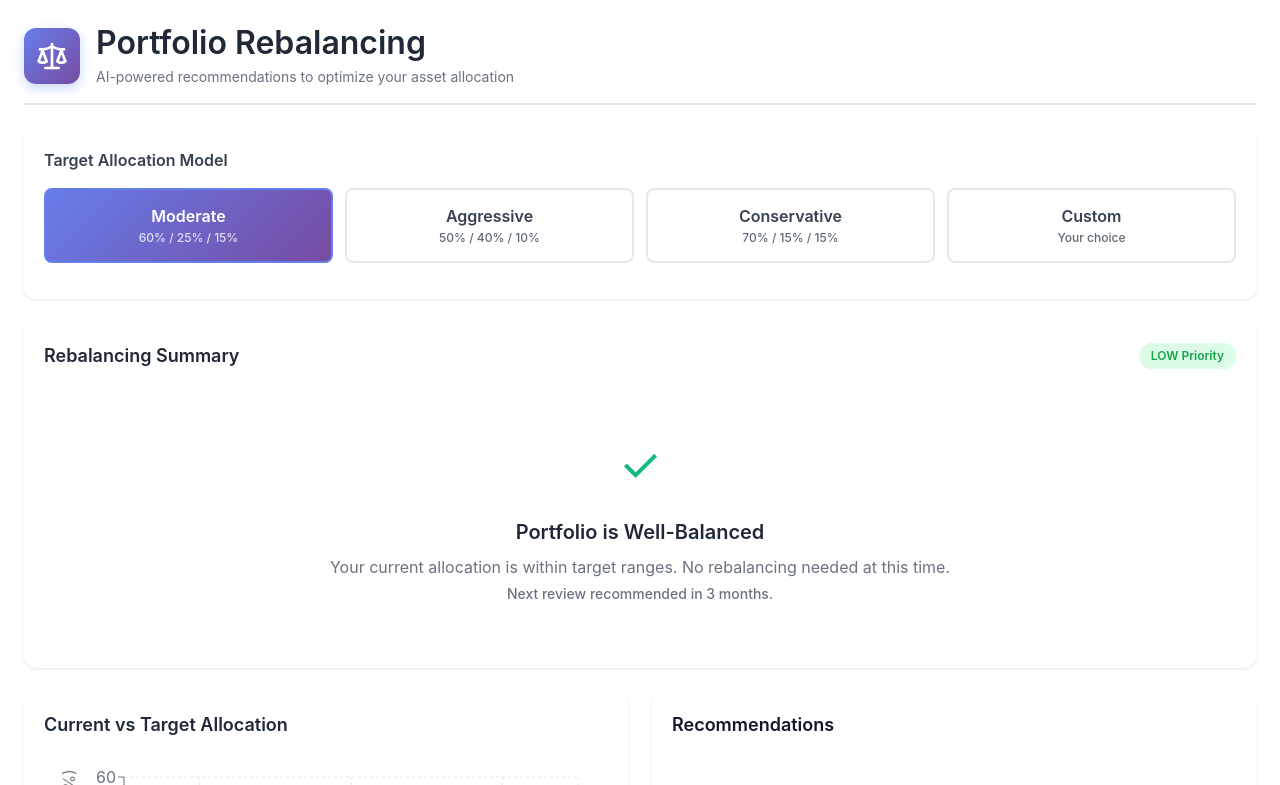
it: RebalancingPage › should show validation error when custom allocation does not sum to 100%
Expected: the text "Custom" is shown, [1062, 206, 1122, 226]
Click the button "Custom Your choice": {"x": 1092, "y": 225} [947, 188, 1236, 263]
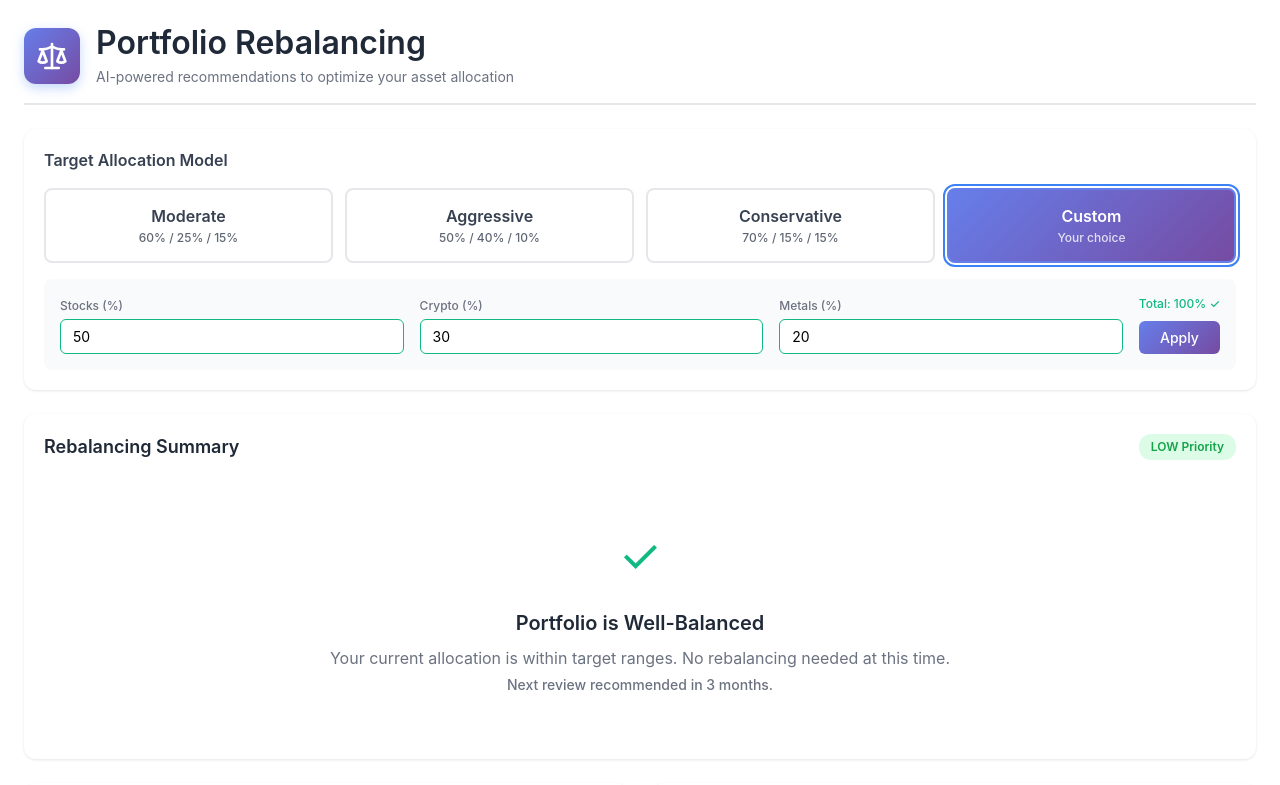
Clear the number field labelled "Stocks (%)": {"x": 232, "y": 336} [60, 319, 404, 354]
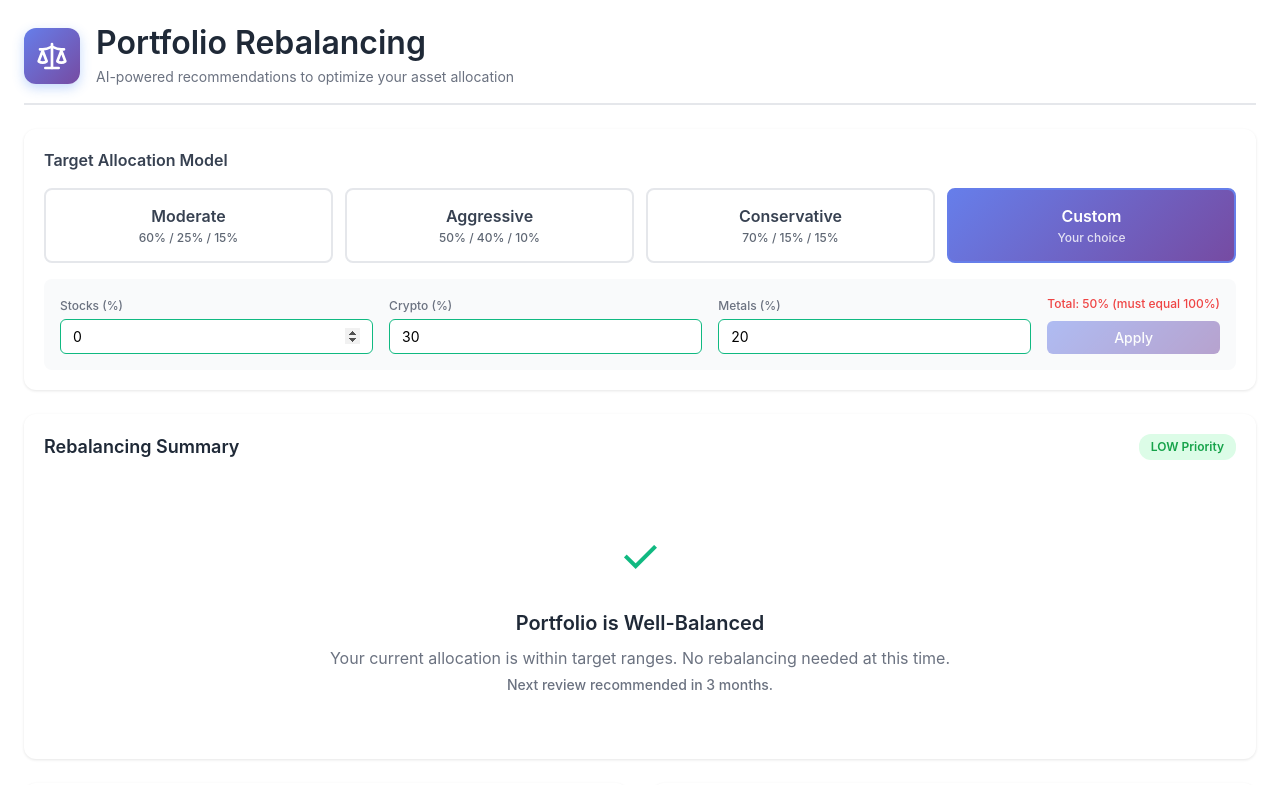
In the number field labelled "Stocks (%)": {"x": 217, "y": 336} [60, 319, 373, 354], type "70"
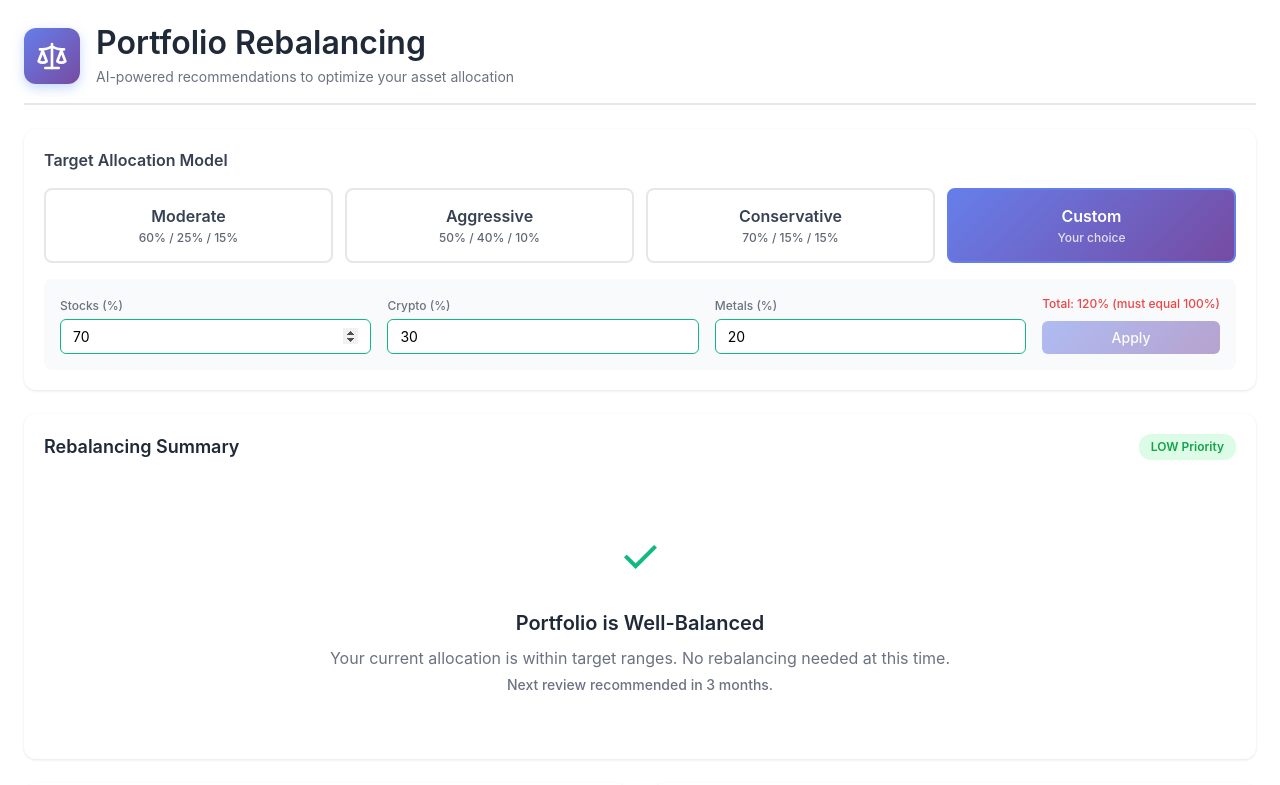
Now the text "Total: 120% (must equal 100%)" is shown, box [1042, 295, 1220, 313]
